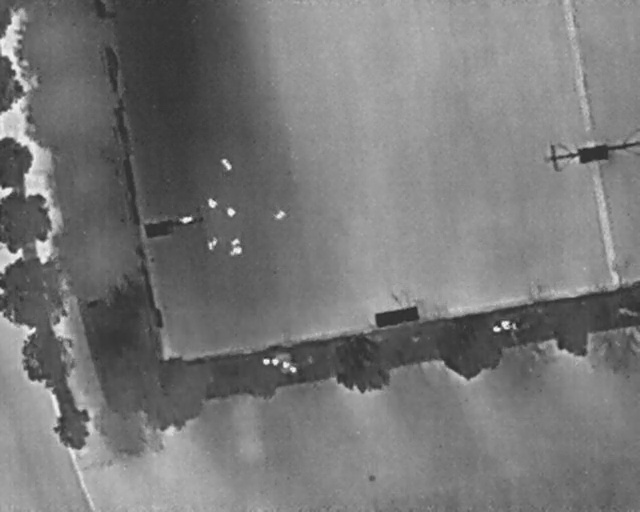Person: (220, 156, 233, 172), (207, 196, 218, 209), (274, 208, 286, 219), (180, 214, 193, 224), (230, 246, 242, 255), (227, 205, 236, 216), (231, 237, 240, 246), (207, 240, 213, 251), (212, 236, 217, 245)
